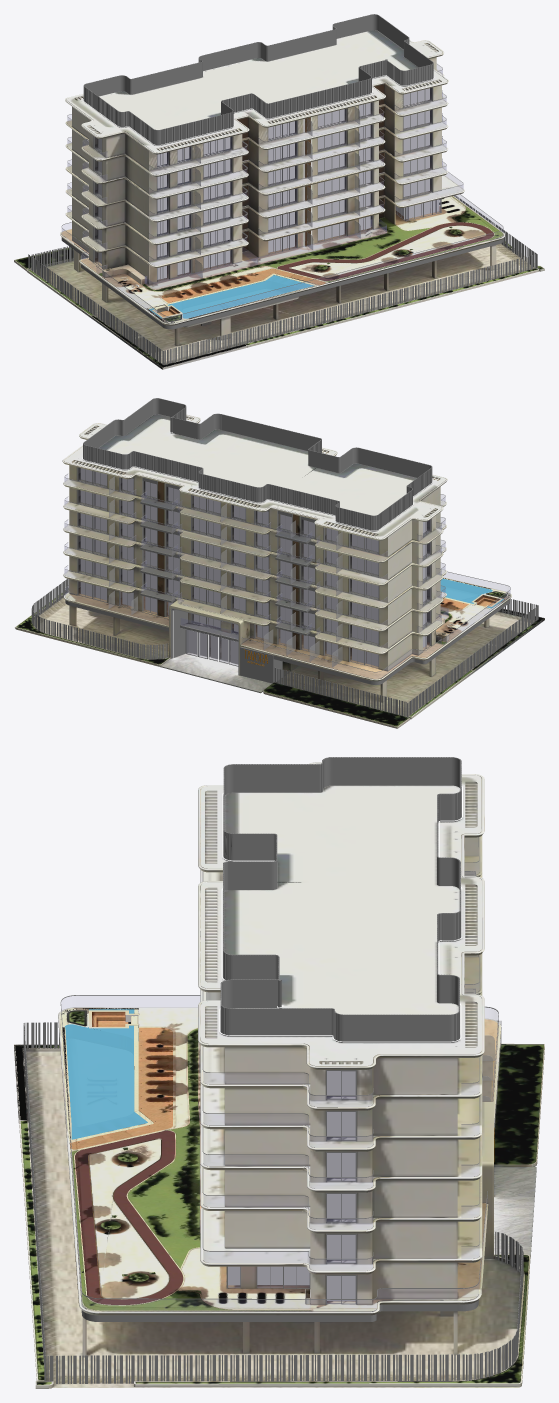
File: Tavora_build.glb
3 renders of one model, top to bottom at view 1: azimuth 30°, elevation 25°; view 2: azimuth 150°, elevation 25°; view 3: azimuth 270°, elevation 25°, orthographic. The views are drawn at different scales.
Visible parts, largest first — view 1: Tavora_build; view 2: Tavora_build; view 3: Tavora_build.
Part boxes in pixels (left/top/right/bottom): Tavora_build: left=14, top=14, right=544, bottom=369; Tavora_build: left=14, top=398, right=544, bottom=728; Tavora_build: left=14, top=757, right=544, bottom=1388.
Bounding box in the file's own units: 62.67 × 28.6 × 41.11.
11 materials, 2 textured.
